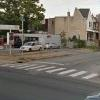Crosswalk: (4, 51, 99, 87)
